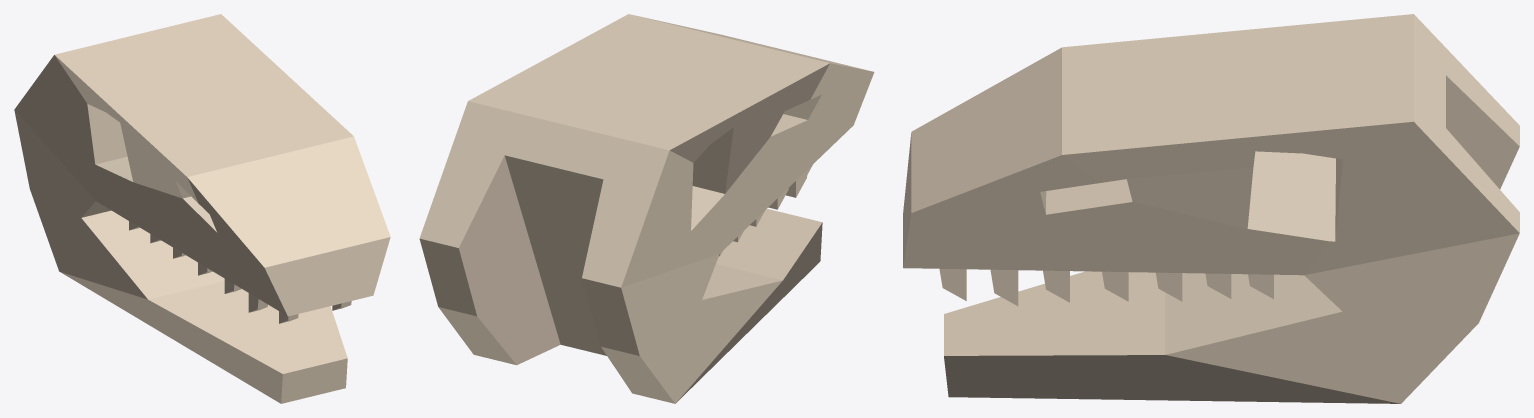
File: item_dino_bone.fbx
3 views of the same model, side by side, from view 1: azimuth 30°, elevation 25°; view 2: azimuth 150°, elevation 25°; view 3: azimuth 270°, elevation 25° (orthographic). The views are drawn at different scales.
Parts seen in each view (by area): view 1: item_dino_bone; view 2: item_dino_bone; view 3: item_dino_bone.
Part boxes in pixels (x1=…): item_dino_bone: x1=14, y1=14, x2=390, y2=403; item_dino_bone: x1=419, y1=14, x2=874, y2=403; item_dino_bone: x1=903, y1=14, x2=1519, y2=403.
Bounding box in the file's own units: 353 × 472 × 855.
